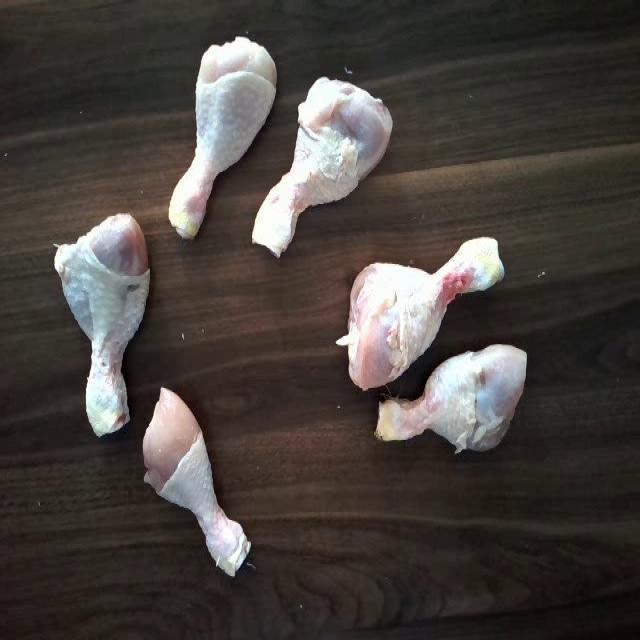leg: (251, 66, 401, 258), (43, 199, 149, 441), (126, 383, 259, 572), (323, 245, 517, 372), (167, 22, 275, 245), (376, 338, 536, 470)
